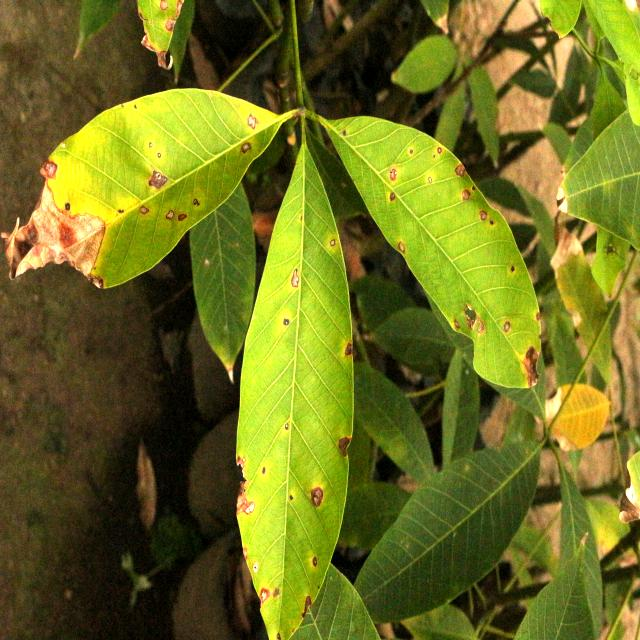Colletotrichum: (312, 487, 324, 507), (454, 164, 466, 177), (241, 142, 252, 153), (462, 189, 471, 201), (140, 205, 149, 215), (165, 210, 174, 220), (480, 210, 488, 221), (177, 213, 187, 221), (398, 241, 405, 252), (312, 557, 318, 567), (504, 322, 510, 331), (390, 192, 396, 201), (65, 202, 70, 211), (284, 318, 290, 325), (330, 239, 335, 247), (192, 199, 198, 205), (428, 177, 433, 184), (437, 147, 442, 154), (262, 466, 266, 474), (511, 266, 515, 272), (149, 142, 153, 148), (285, 424, 289, 429), (289, 495, 293, 500), (490, 220, 494, 225), (157, 153, 161, 158), (277, 633, 280, 639), (472, 186, 475, 191), (410, 149, 413, 154), (292, 628, 294, 632)
Leaf-Blight: (1, 159, 106, 291), (525, 346, 540, 389)
